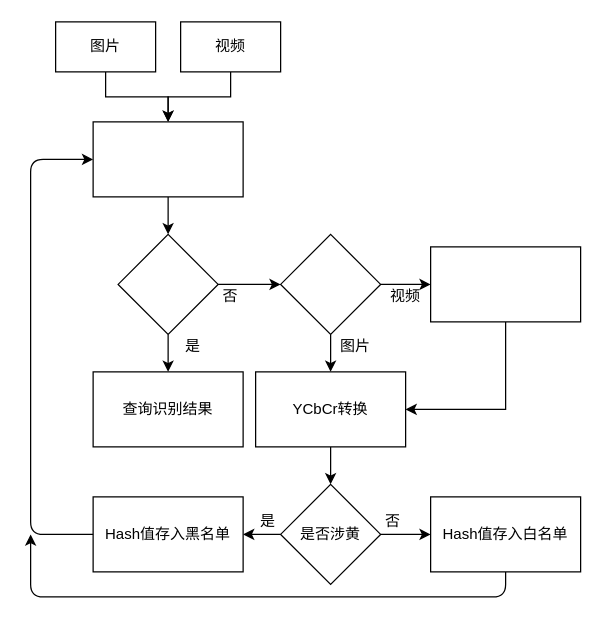
Image size: 603x629. Some labels were removed from this diagram. Each missing label, with the centre of its shape:
图片/视频: point 330,283
数据库储存Hash值: point 167,159
是否识别过: point 167,283
视频帧提取: point 505,284
